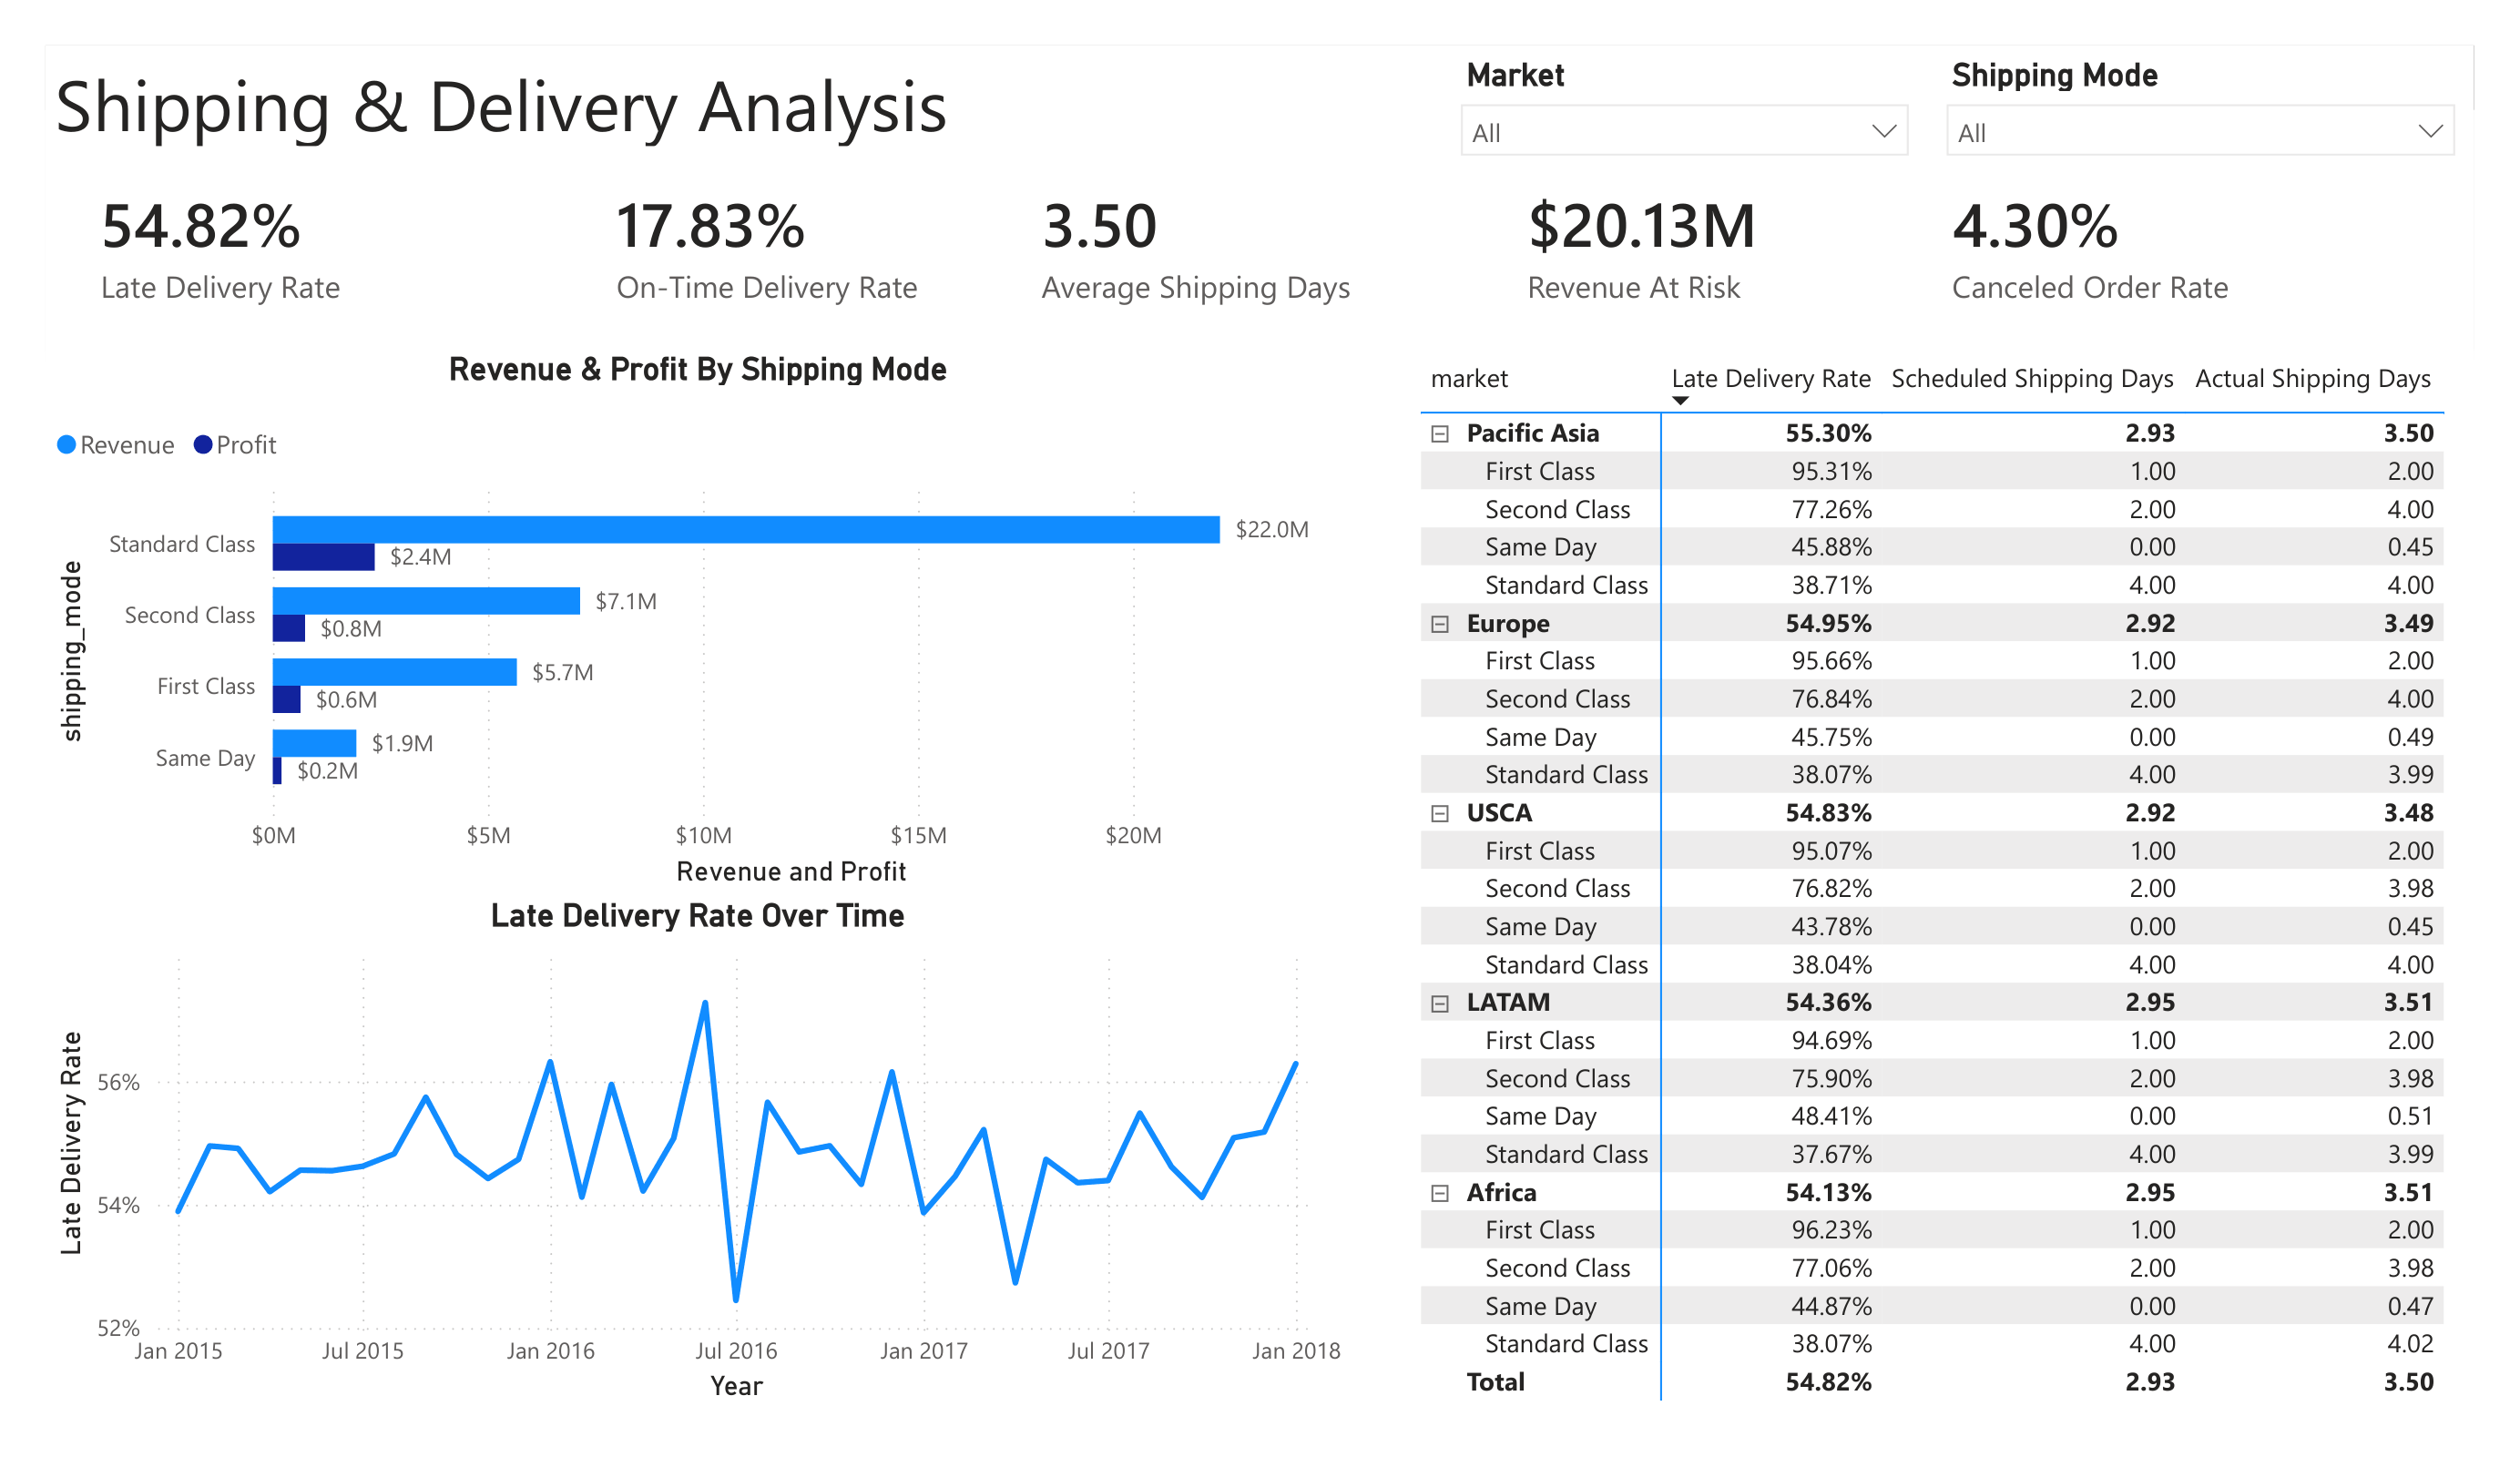

The page's visual inventory and layout, read from the dashboard file:
{"tool":"powerbi","page":{"name":"Page 4","canvas":[1280,720],"ordinal":3},"visuals":[{"type":"textbox","box":[0,0,496,64],"z":0},{"type":"cardVisual","fields":{"Data":["order_processing.Late Delivery Rate"]},"box":[0,48,304,112],"z":1000},{"type":"cardVisual","fields":{"Data":["order_processing.On-Time Delivery Rate"]},"box":[272,48,304,112],"z":2000},{"type":"cardVisual","fields":{"Data":["Avg(order_processing.days_for_shipping_real)"]},"box":[496,48,304,112],"z":3000},{"type":"lineChart","title":"Late Delivery Rate Over Time","fields":{"Category":["dataco orders.order_date_dateorders.Variation.Date Hierarchy.Year","dataco orders.order_date_dateorders.Variation.Date Hierarchy.Month"],"Y":["order_processing.Late Delivery Rate"]},"box":[0,448,688,272],"z":4000},{"type":"clusteredBarChart","title":"Revenue  & Profit By Shipping Mode","fields":{"Y":["Sum(dataco order_items.sales)","Sum(dataco order_items.order_profit_per_order)"],"Category":["order_processing.shipping_mode"]},"box":[0,160,688,288],"z":5000},{"type":"pivotTable","fields":{"Rows":["order_processing.market","order_processing.shipping_mode"],"Values":["order_processing.Late Delivery Rate","Avg(order_processing.days_for_shipment_scheduled)","Avg(order_processing.days_for_shipping_real)"]},"box":[720,160,560,560],"z":6000},{"type":"cardVisual","fields":{"Data":["order_processing.Revenue at Risk $"]},"box":[752,48,304,112],"z":7000},{"type":"cardVisual","fields":{"Data":["order_processing.Canceled Order Rate %"]},"box":[976,48,304,112],"z":8000},{"type":"slicer","fields":{"Values":["order_processing.shipping_mode"]},"box":[992,0,288,80],"z":9000},{"type":"slicer","fields":{"Values":["order_processing.market"]},"box":[736,0,256,80],"z":10000}]}

Visuals, with their boxes on the page's 1280x720 design canvas (x1, y1, x2, y2). These are canvas units, not pixel positions in the 2520x1457 screenshot, which may show the page scaled, cropped or inside an application window:
textbox: l=0, t=0, r=496, b=64
cardVisual - order_processing.Late Delivery Rate: l=0, t=48, r=304, b=160
cardVisual - order_processing.On-Time Delivery Rate: l=272, t=48, r=576, b=160
cardVisual - Avg(order_processing.days_for_shipping_real): l=496, t=48, r=800, b=160
"Late Delivery Rate Over Time" lineChart: l=0, t=448, r=688, b=720
"Revenue  & Profit By Shipping Mode" clusteredBarChart: l=0, t=160, r=688, b=448
pivotTable - order_processing.market x order_processing.shipping_mode: l=720, t=160, r=1280, b=720
cardVisual - order_processing.Revenue at Risk $: l=752, t=48, r=1056, b=160
cardVisual - order_processing.Canceled Order Rate %: l=976, t=48, r=1280, b=160
slicer - order_processing.shipping_mode: l=992, t=0, r=1280, b=80
slicer - order_processing.market: l=736, t=0, r=992, b=80
